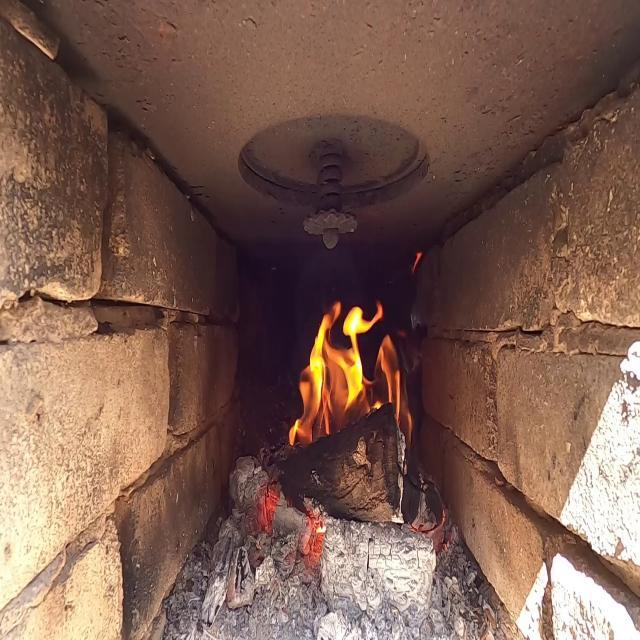Fire: (295, 296, 402, 446)
